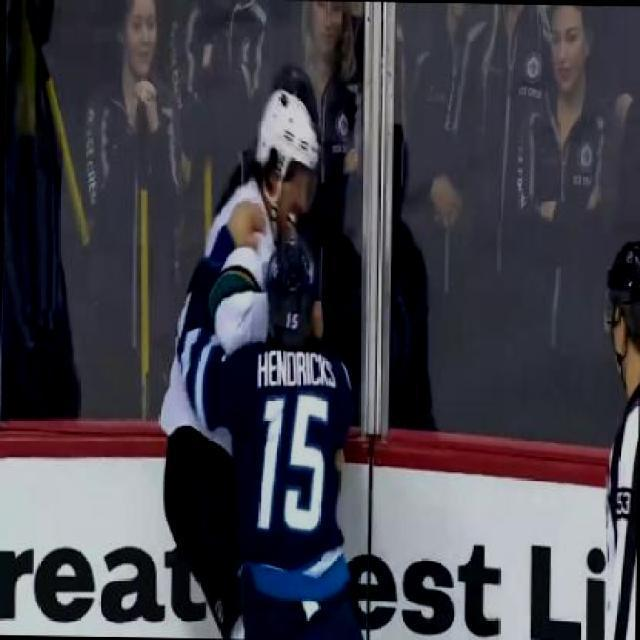fight: (152, 80, 365, 638)
non-fight: (508, 3, 617, 329), (83, 0, 192, 245)
